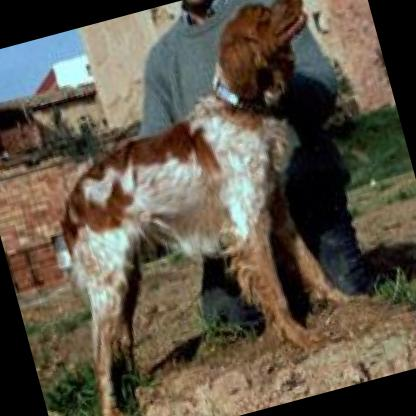Brittany_spaniel: (3, 0, 398, 416)
